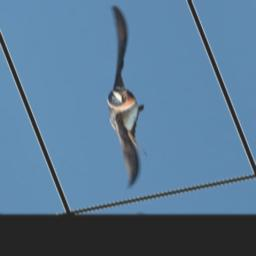Swallow: (55, 4, 185, 190)
